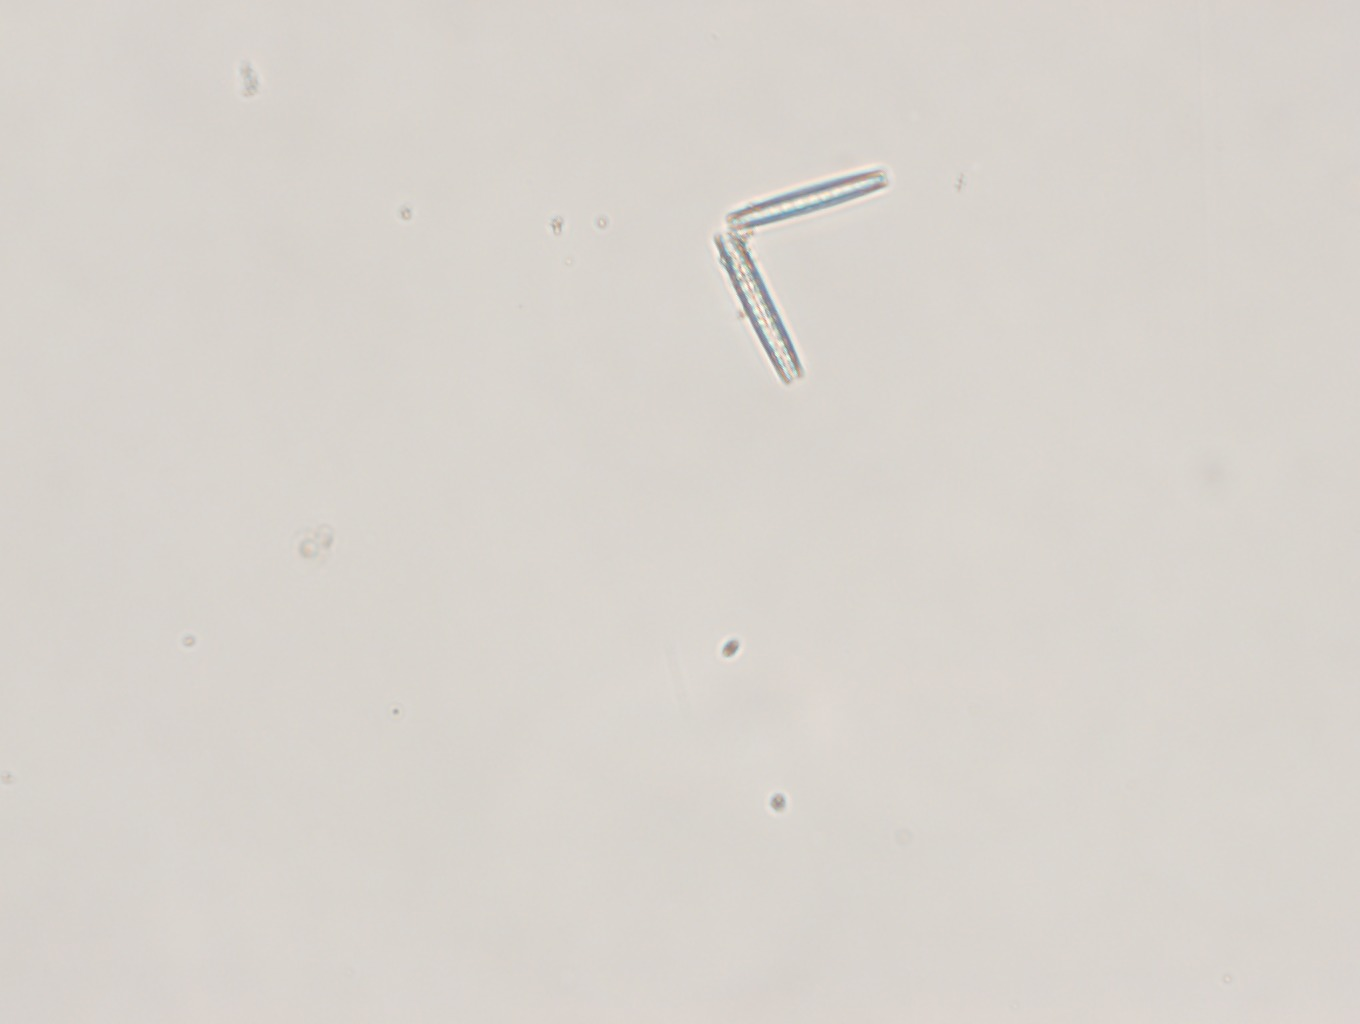thalassionema nitzschioides: (702, 162, 896, 386)
